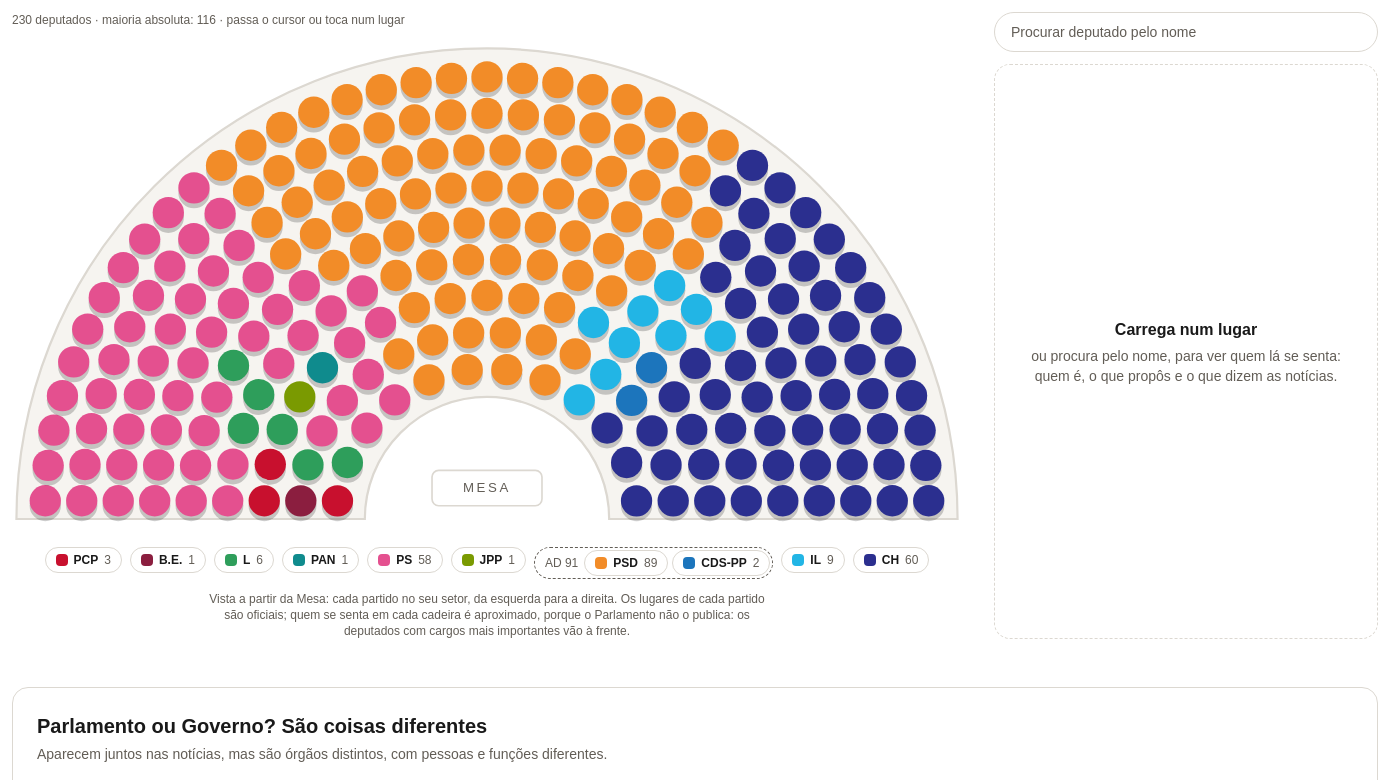
Scenario: ParliamentView › says so when no deputy has that name
The image size is (1390, 780).
Type "zzzz" into the dropdown labelled "Procurar deputado" at {"x": 1186, "y": 32}, box [994, 12, 1378, 52]
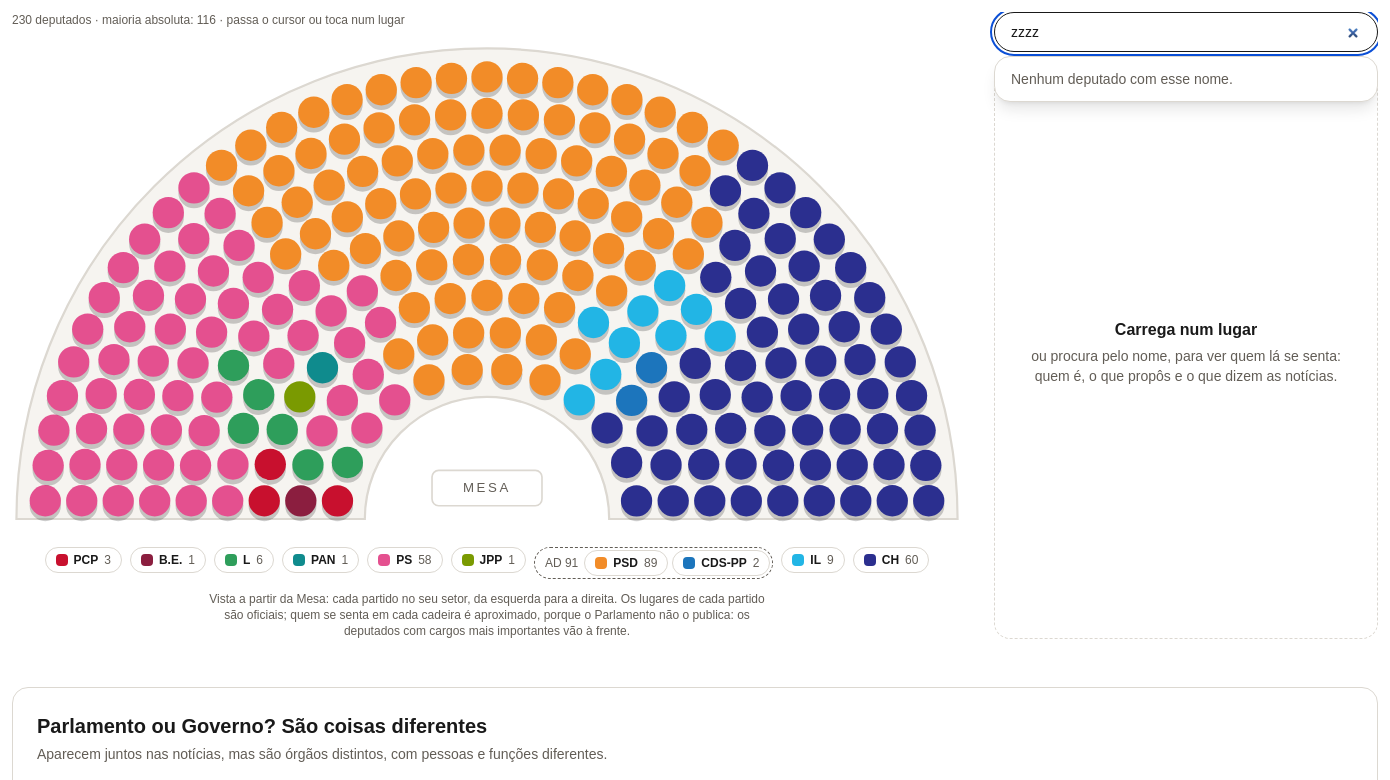
Expected: the list item "Nenhum deputado com esse nome." is shown, [1011, 71, 1233, 87]
